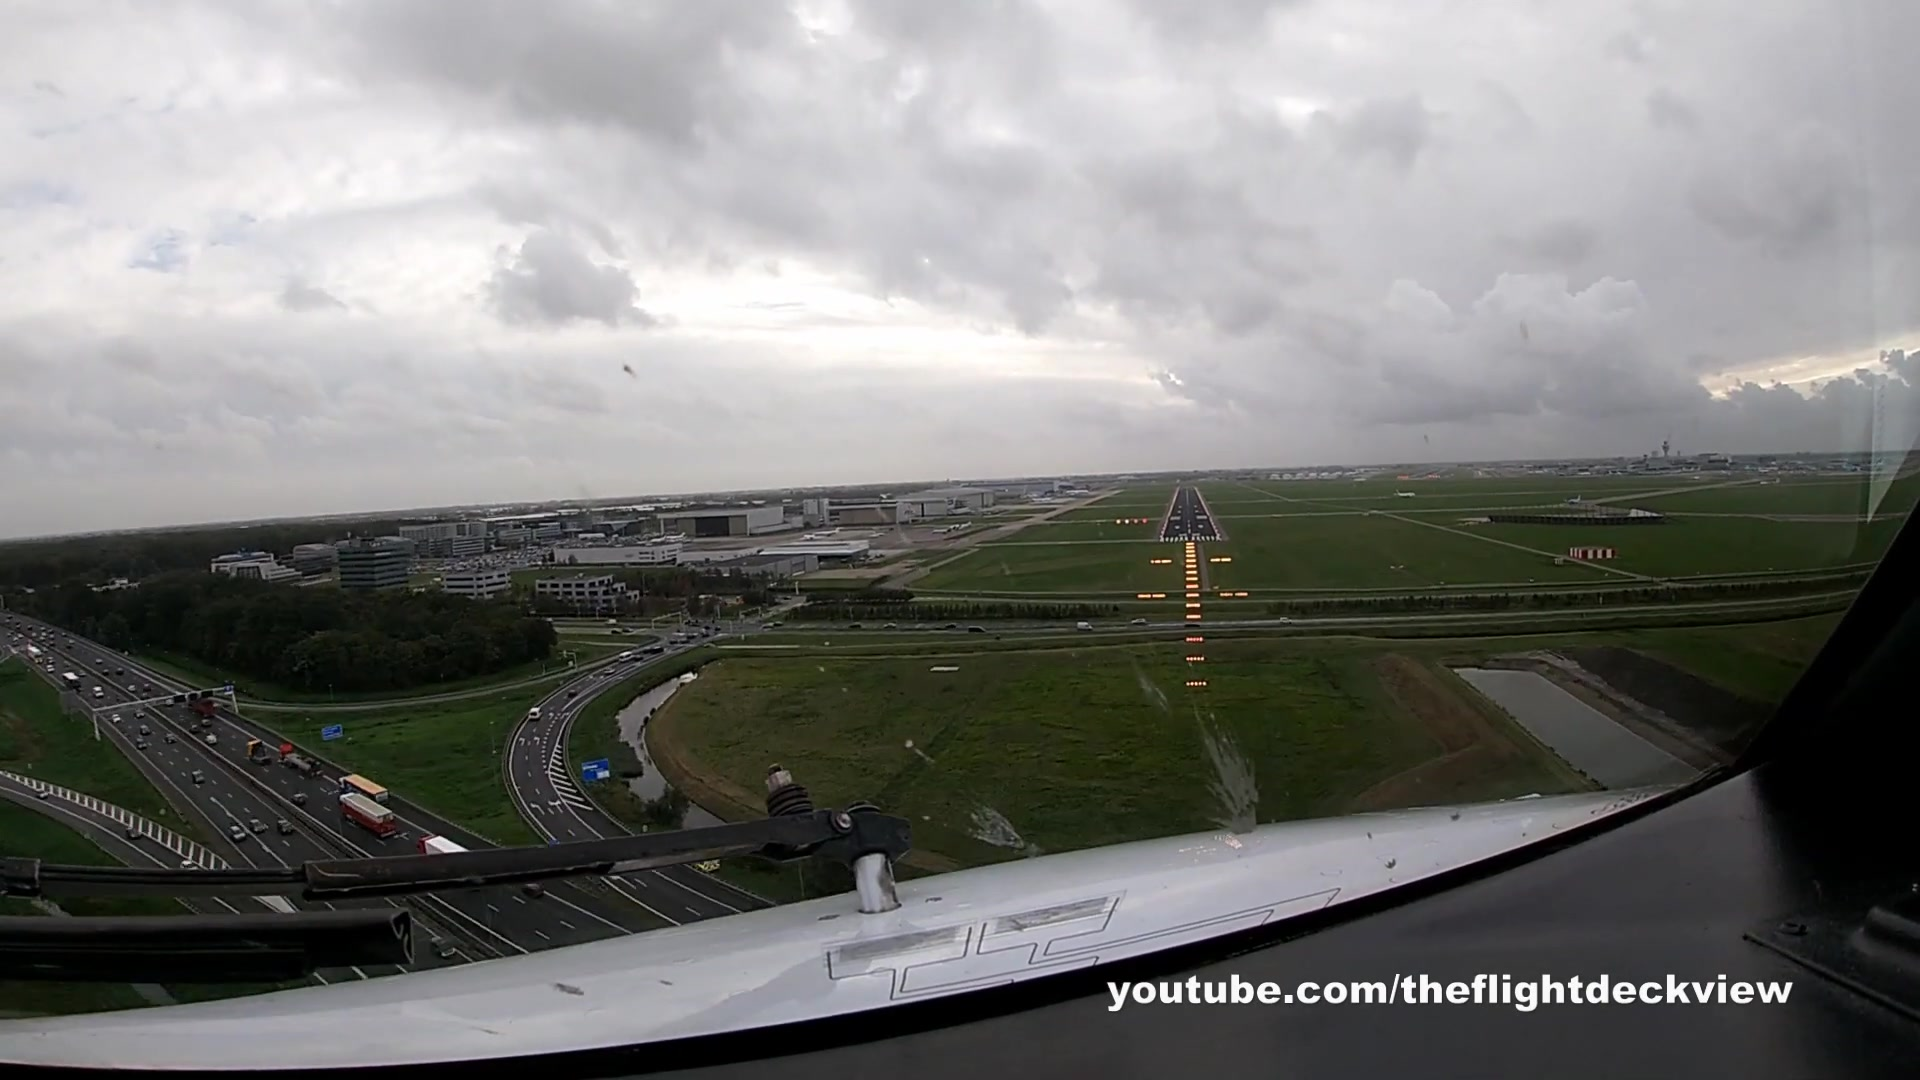entrance: (1160, 531, 1221, 543)
runway: (1156, 484, 1224, 546)
